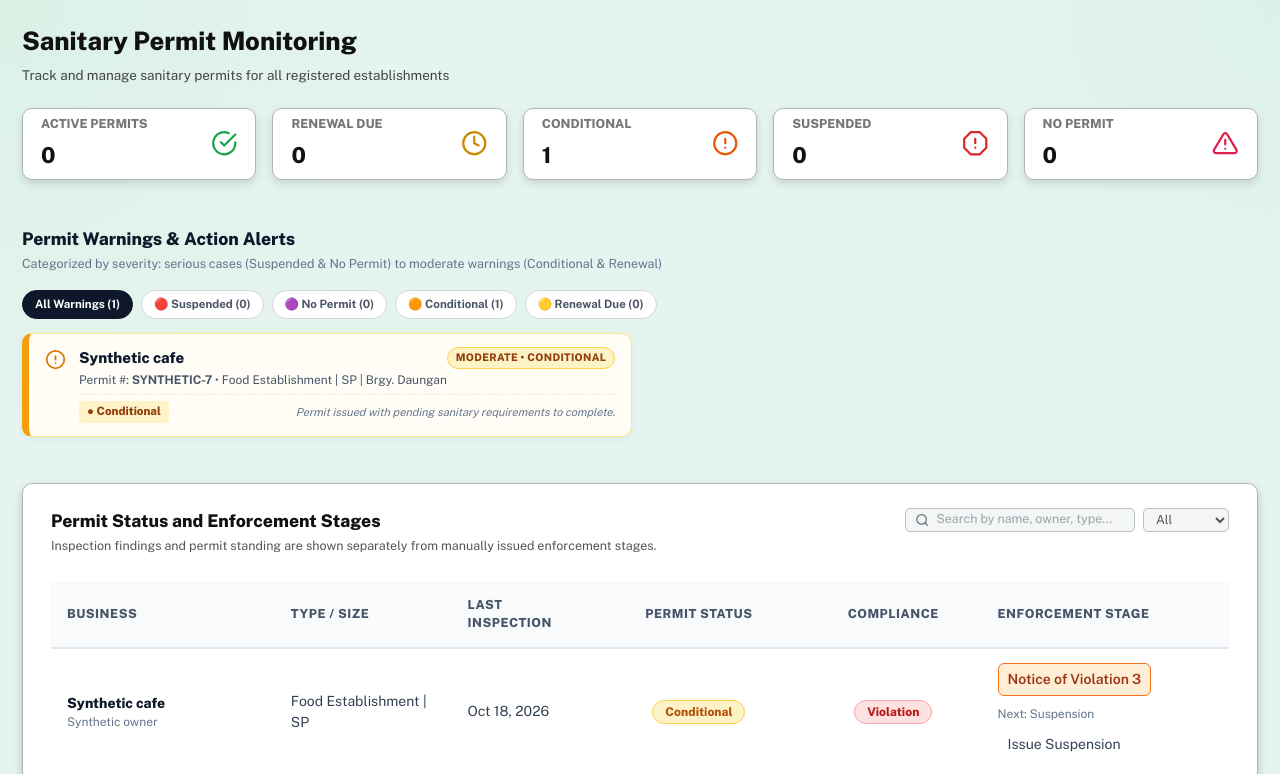
Test case: nov_3 offers only its exact next stage with confirmation
Click the button "Issue Suspension" at {"x": 1064, "y": 744}, box [998,728,1130,761]
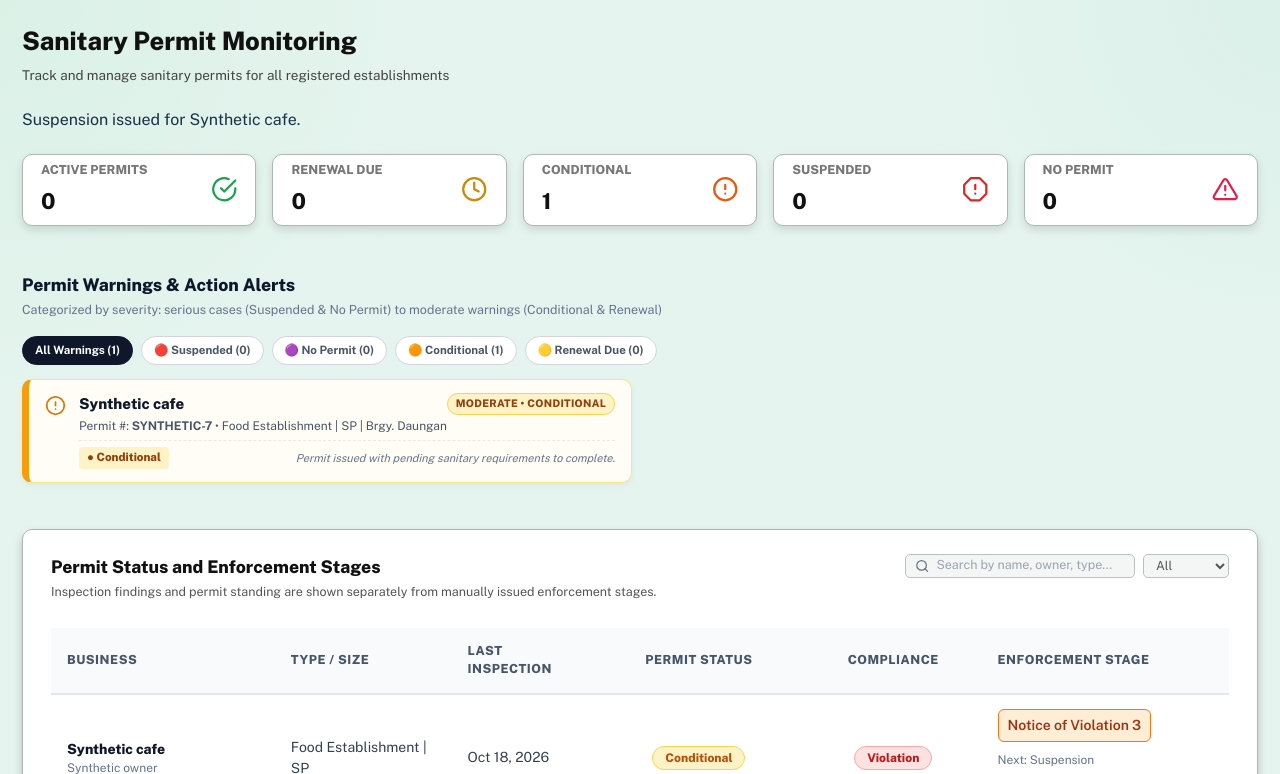
Expected: the message "Suspension issued for Synthetic cafe." is shown, [22,110,300,128]
